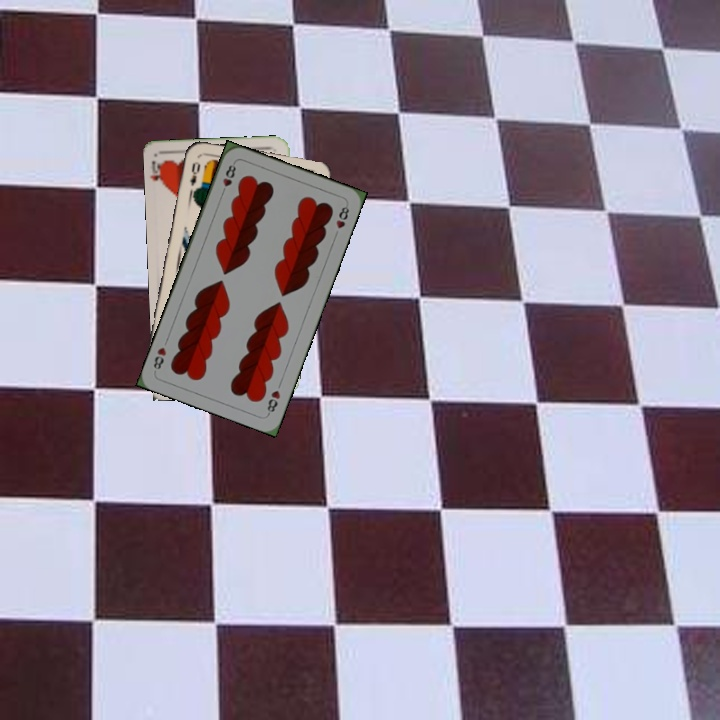EO: (186, 157, 203, 188)
H8: (217, 159, 238, 198), (263, 386, 283, 417)
HO: (147, 156, 167, 191)
